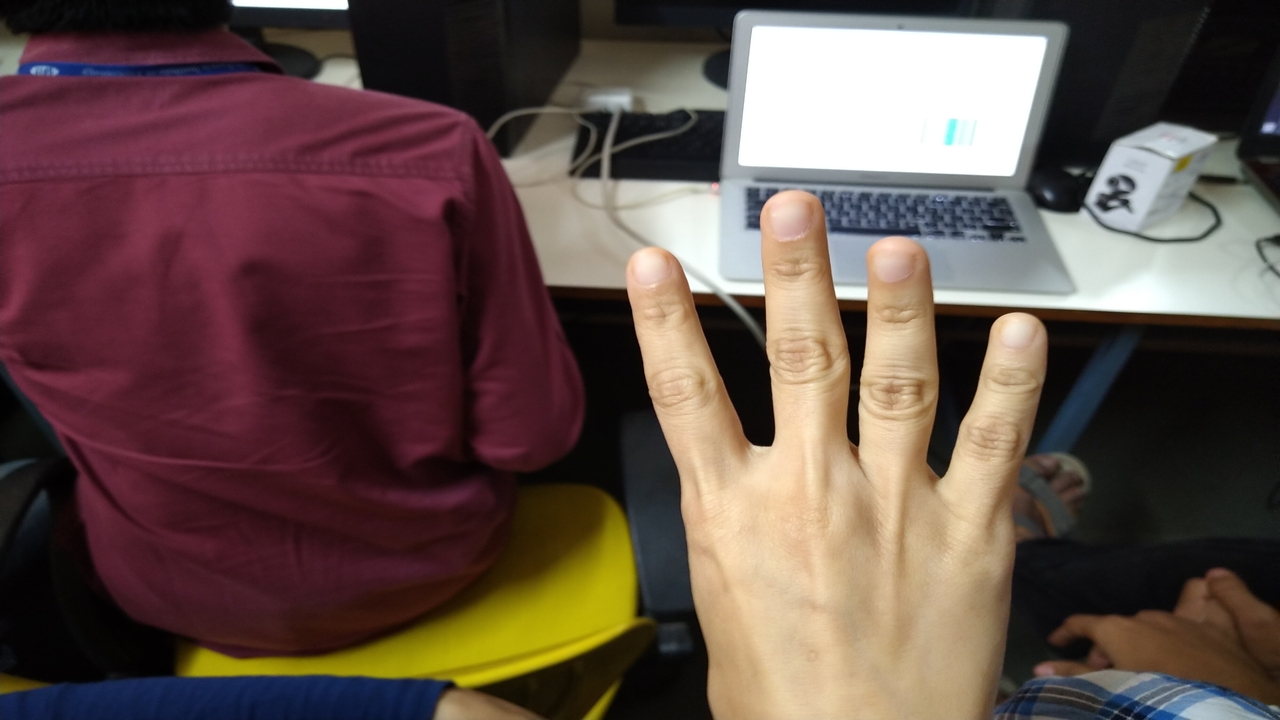fingertip: (988, 300, 1062, 372), (758, 182, 832, 250), (868, 236, 942, 298), (618, 238, 686, 304)
